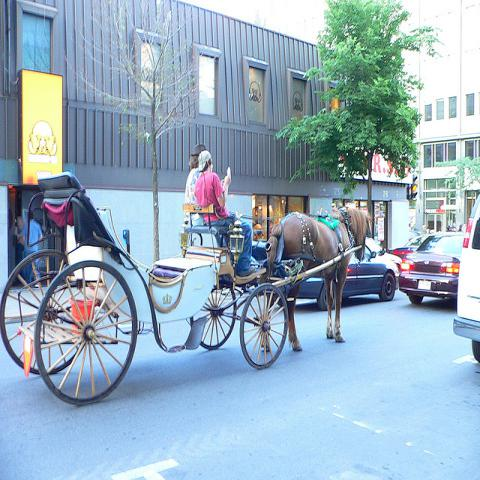car: (298, 236, 401, 313), (400, 233, 466, 307), (452, 191, 480, 364)
